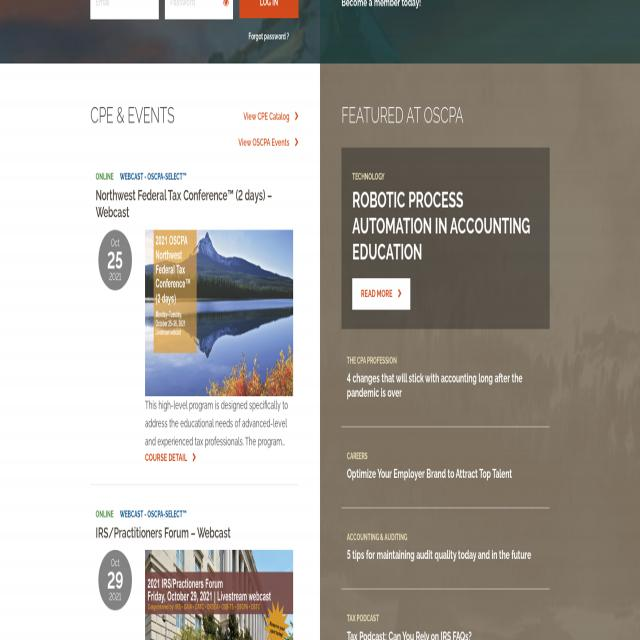button: (145, 230, 293, 396), (145, 549, 294, 640), (352, 278, 410, 310), (240, 0, 298, 18)
field: (90, 0, 159, 20), (165, 0, 233, 20)
